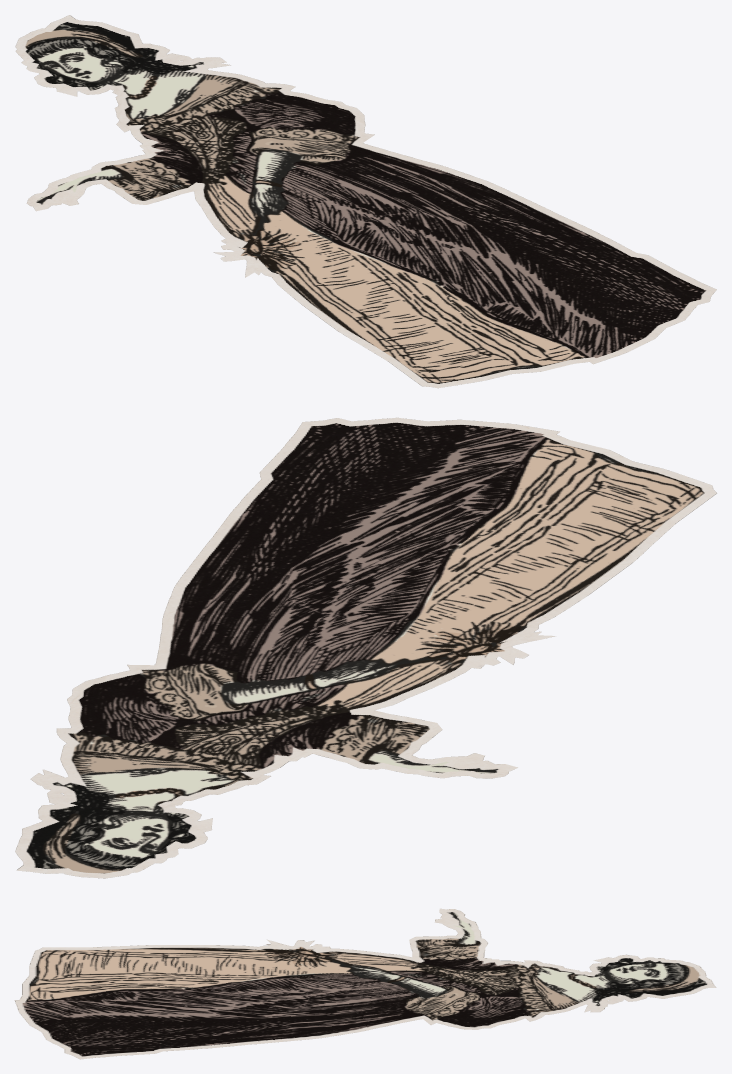
The model's file is ruth.fbx.
3 views of the same model, one above another, from view 1: azimuth 30°, elevation 25°; view 2: azimuth 150°, elevation 25°; view 3: azimuth 270°, elevation 25° (orthographic). The views are drawn at different scales.
Visible parts, largest first — view 1: BézierCurve; view 2: BézierCurve; view 3: BézierCurve.
Part boxes in pixels (x1,y1,x2,y2): BézierCurve: (15, 15, 716, 388); BézierCurve: (15, 417, 716, 878); BézierCurve: (14, 908, 716, 1059).
Bounding box in the file's own units: 254 × 9.59e-05 × 500.
